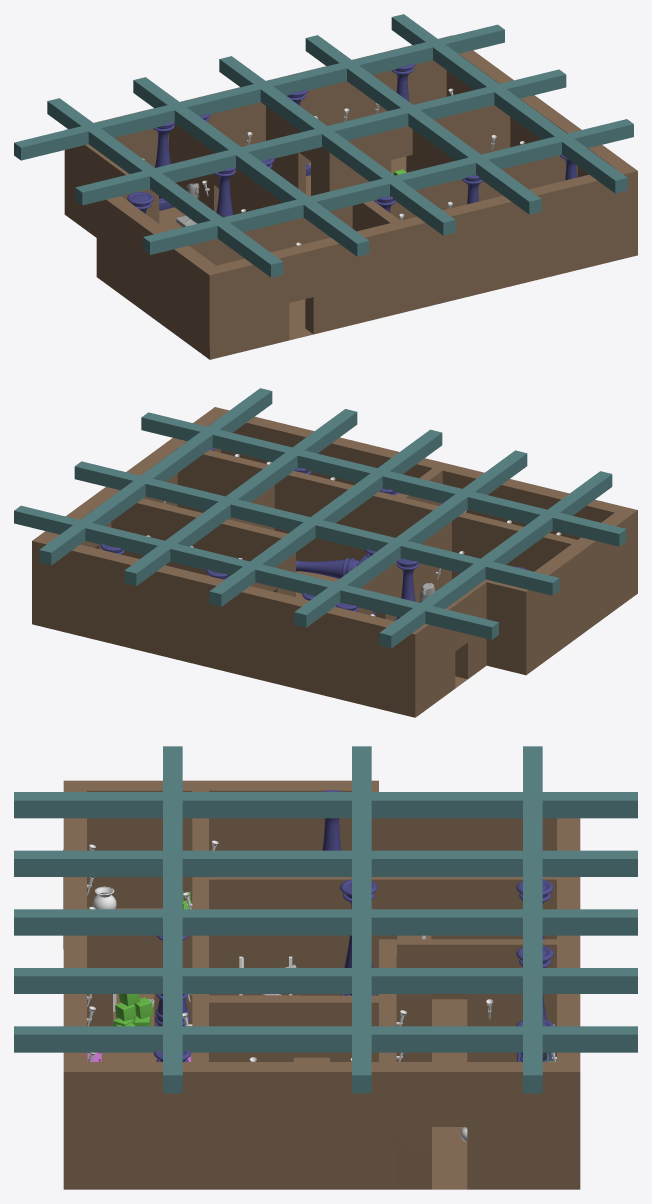
File: Temple_Left_Floor_2.fbx
The picture shows the model from 3 angles, top to bottom: view 1: azimuth 30°, elevation 25°; view 2: azimuth 150°, elevation 25°; view 3: azimuth 270°, elevation 25°; orthographic projection. The views are drawn at different scales.
Parts seen in each view (by area): view 1: Temple_Left_Floor_2, Balki_Roof_Temple_Left_Floor_2, Column9, Column_20; view 2: Temple_Left_Floor_2, Balki_Roof_Temple_Left_Floor_2, Column_to_lie, Column_20; view 3: Temple_Left_Floor_2, Balki_Roof_Temple_Left_Floor_2, Brick1.
Boxes of the visible parts, box(x1,y1,x2,y2) form: Temple_Left_Floor_2: box(64, 35, 637, 359); Balki_Roof_Temple_Left_Floor_2: box(14, 14, 633, 277); Column9: box(153, 122, 174, 210); Column_20: box(214, 167, 236, 217); Temple_Left_Floor_2: box(32, 407, 637, 717); Balki_Roof_Temple_Left_Floor_2: box(14, 388, 626, 648); Column_to_lie: box(296, 555, 368, 578); Column_20: box(396, 558, 419, 619); Temple_Left_Floor_2: box(63, 780, 580, 1189); Balki_Roof_Temple_Left_Floor_2: box(14, 746, 637, 1093); Brick1: box(113, 994, 153, 1026).
Bounding box in the file's own units: 4269 × 902 × 3419.
